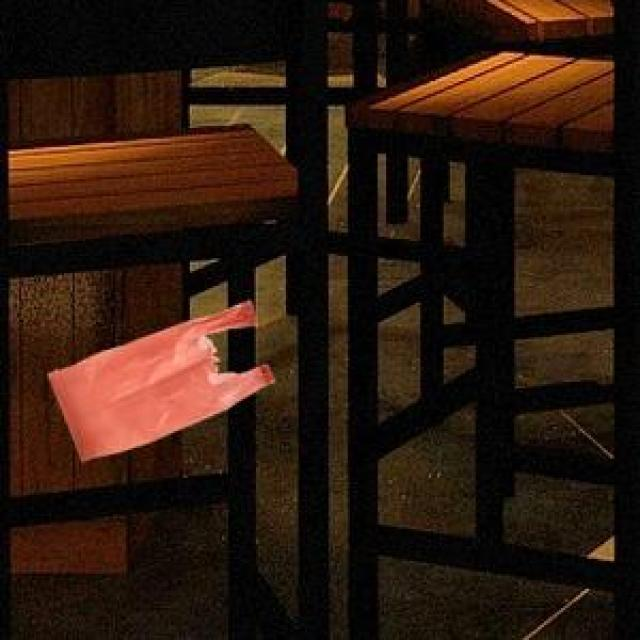plastic: (33, 291, 294, 470)
